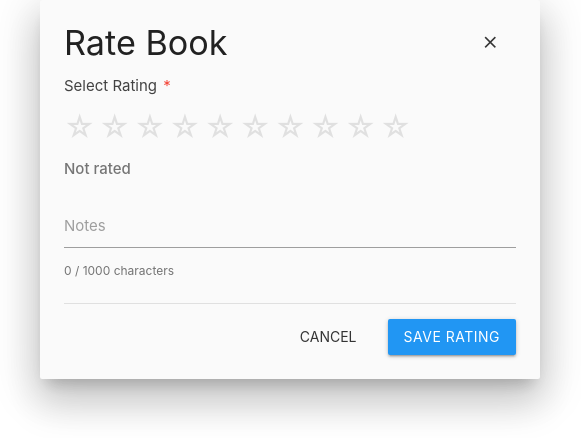
Test: RateBookModal Component › should show hover preview when hovering over stars
The image size is (581, 438).
Hover over the button named "Rate 5 out of 10" at coordinates (220, 128), box [204,105,236,150]
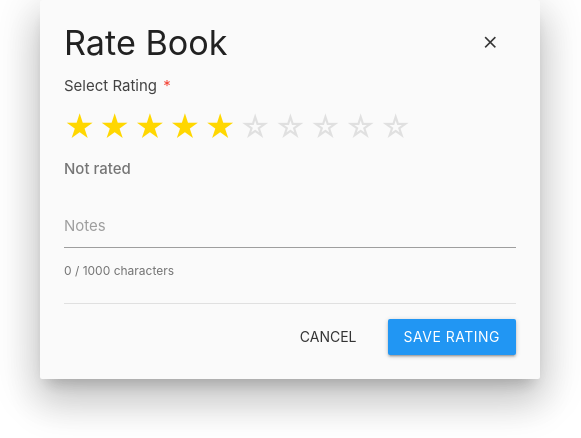
Check: the 1st button "★" is shown, box [64,105,95,150]
Check: the 2nd button "★" is shown, box [99,105,130,150]
Check: the 3rd button "★" is shown, box [134,105,166,150]
